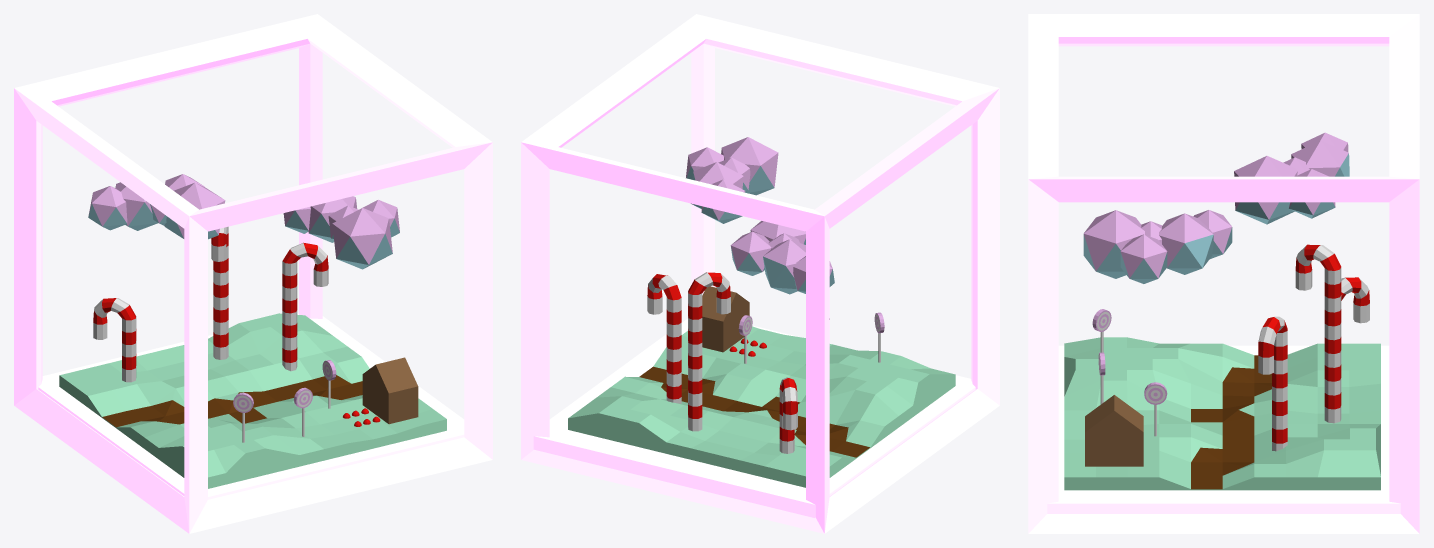
File: Candy World Memory Cube.fbx
3 views of the same model, side by side, from view 1: azimuth 30°, elevation 25°; view 2: azimuth 150°, elevation 25°; view 3: azimuth 270°, elevation 25° (orthographic). The views are drawn at different scales.
Visible parts, largest first — view 1: Cube.041, Cube.001, Cube.042, Icosphere.004, Icosphere.001, Cube, Cylinder.001, Cylinder, Cylinder.005; view 2: Cube.041, Cube.001, Cube.042, Icosphere.004, Icosphere.001, Cylinder, Cylinder.001, Cube, Cylinder.005; view 3: Cube.041, Cube.001, Cube.042, Icosphere.004, Icosphere.001, Cylinder, Cube, Cylinder.001, Cylinder.005, Cylinder.002.
Boxes of the visible parts, x1,y1,x2,y2 form: Cube.041: [14, 14, 492, 533]; Cube.001: [59, 313, 446, 488]; Cube.042: [38, 313, 464, 499]; Icosphere.004: [283, 196, 399, 269]; Icosphere.001: [88, 174, 225, 239]; Cube: [362, 357, 418, 424]; Cylinder.001: [282, 242, 328, 371]; Cylinder: [211, 226, 228, 359]; Cylinder.005: [93, 298, 136, 382]; Cube.041: [521, 14, 999, 533]; Cube.001: [568, 326, 955, 487]; Cube.042: [533, 318, 975, 517]; Icosphere.004: [686, 137, 778, 223]; Icosphere.001: [730, 221, 834, 294]; Cylinder: [688, 272, 730, 431]; Cylinder.001: [647, 274, 681, 403]; Cube: [702, 286, 749, 352]; Cylinder.005: [779, 377, 797, 453]; Cube.041: [1028, 14, 1419, 533]; Cube.001: [1064, 337, 1380, 490]; Cube.042: [1047, 347, 1400, 513]; Icosphere.004: [1083, 210, 1232, 283]; Icosphere.001: [1234, 132, 1349, 224]; Cylinder: [1295, 244, 1341, 423]; Cube: [1085, 395, 1143, 466]; Cylinder.001: [1258, 316, 1287, 451]; Cylinder.005: [1341, 277, 1369, 323]; Cylinder.002: [1144, 382, 1167, 436].
Size of the model in its own units: 61.71 by 61.71 by 61.71.
